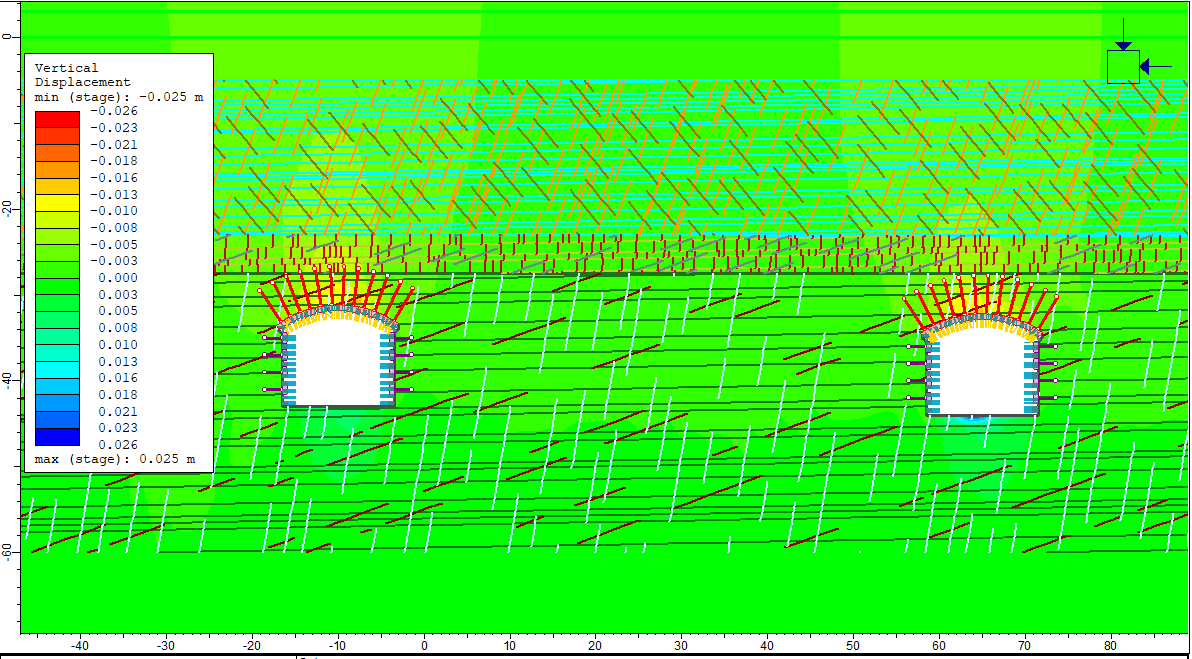crown: (960, 285, 998, 310), (322, 275, 357, 301)
label: (26, 52, 215, 474)
tunnel-opening: (926, 309, 1039, 415), (281, 306, 395, 406)
